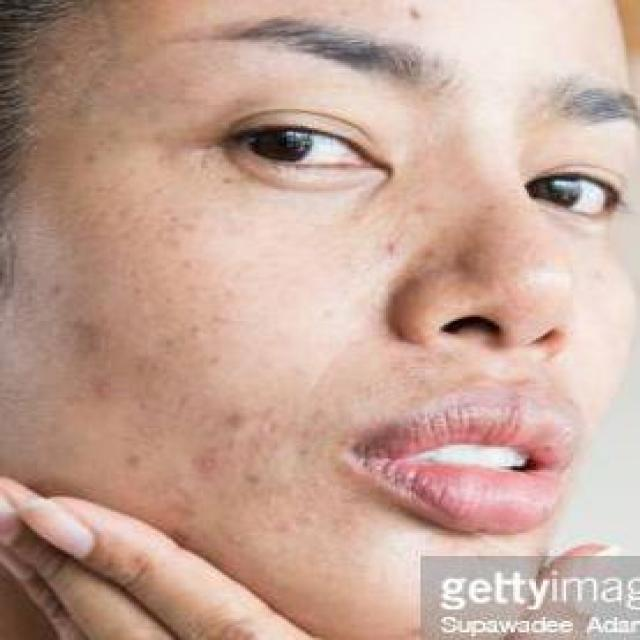blackheads: (220, 407, 254, 434), (46, 273, 67, 300), (418, 196, 434, 222), (384, 237, 399, 264), (248, 466, 264, 489), (407, 4, 425, 23), (86, 147, 100, 164), (118, 451, 132, 466)
